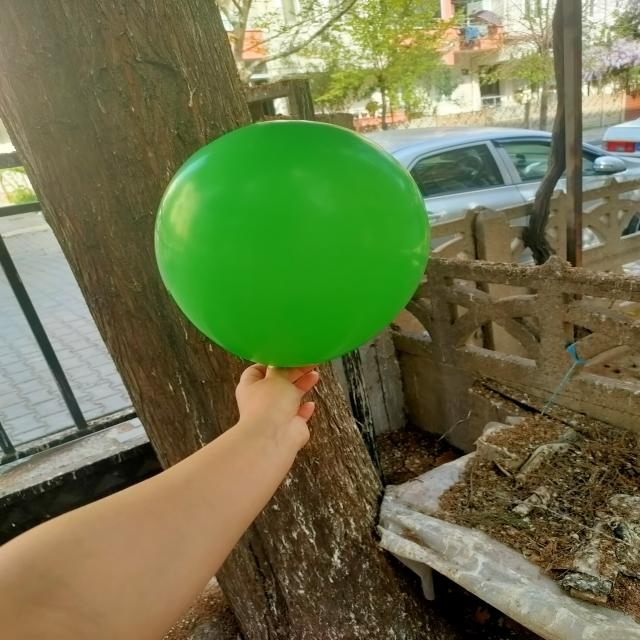green: (156, 120, 429, 371)
